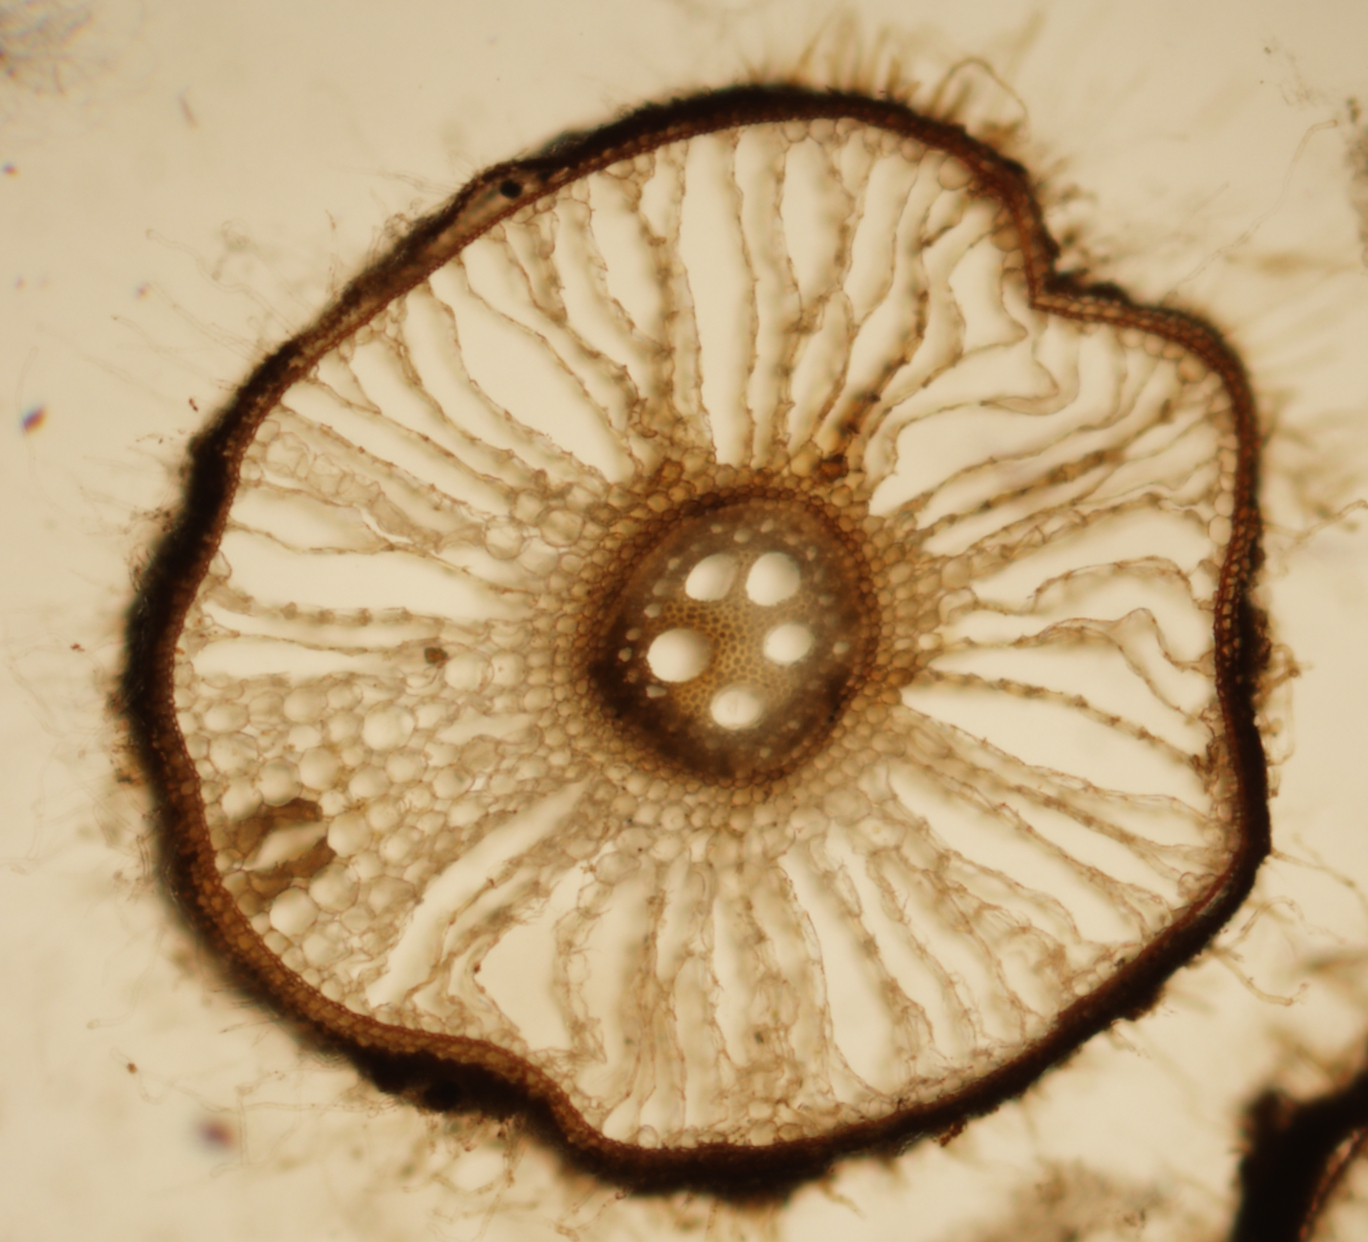lm: (646, 626, 711, 682), (744, 551, 801, 606), (710, 682, 770, 729), (685, 552, 739, 600), (761, 622, 812, 664)
